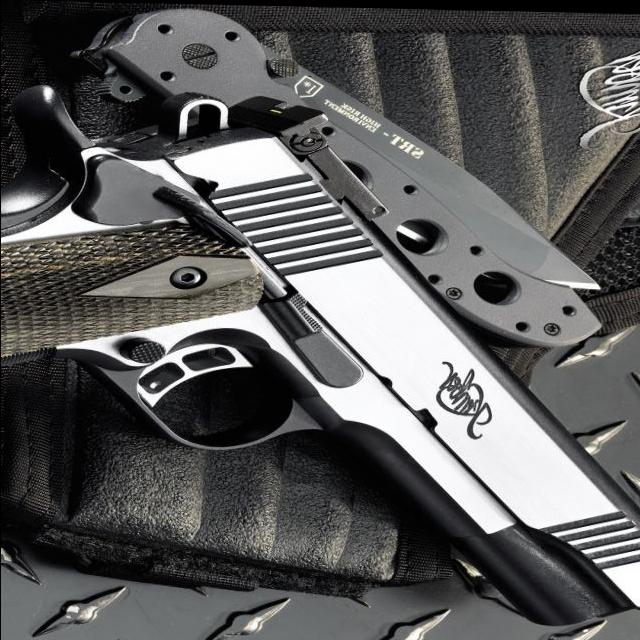handgun: (0, 86, 638, 624)
